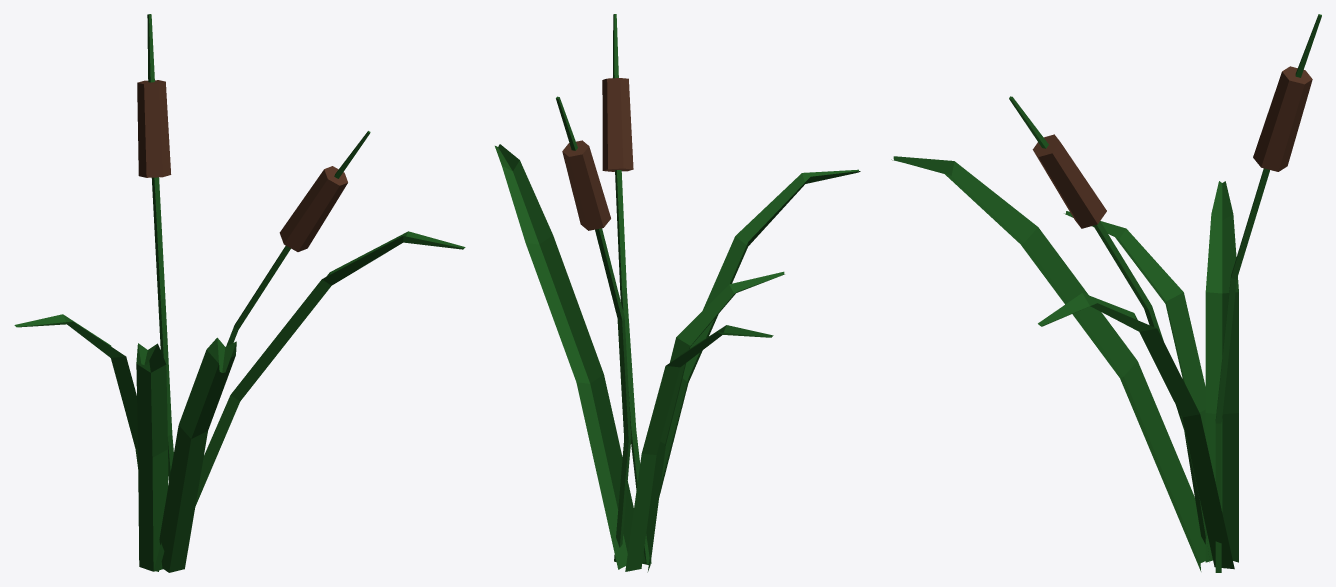
File: pały.fbx
3 renders of one model, left to right at view 1: azimuth 30°, elevation 25°; view 2: azimuth 150°, elevation 25°; view 3: azimuth 270°, elevation 25°, orthographic. The views are drawn at different scales.
Visible parts, largest first — view 1: liść_var2, pała_var2; view 2: liść_var2, pała_var2; view 3: liść_var2, pała_var2.
Part boxes in pixels (x1,y1,x2,y2): liść_var2: (14, 231, 465, 572); pała_var2: (137, 14, 370, 571); liść_var2: (495, 144, 860, 572); pała_var2: (556, 14, 651, 563); liść_var2: (891, 156, 1238, 571); pała_var2: (1009, 14, 1321, 572).
Size of the model in its own units: 202 by 267 by 184.
